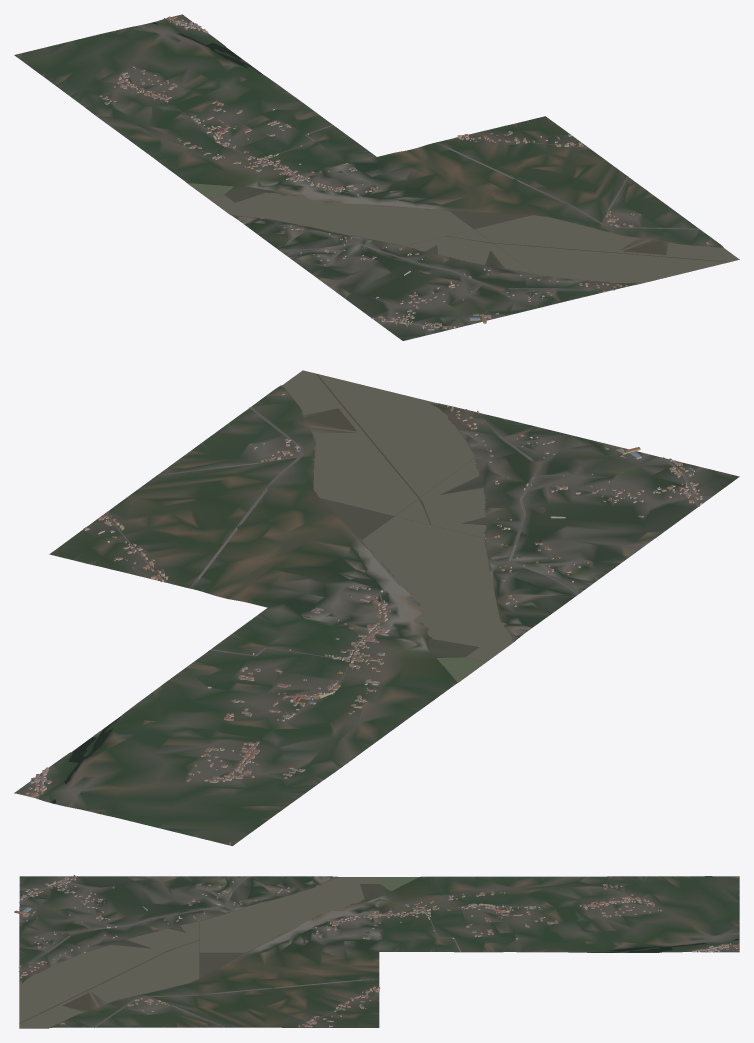
The picture shows the model from 3 angles, top to bottom: view 1: azimuth 30°, elevation 25°; view 2: azimuth 150°, elevation 25°; view 3: azimuth 270°, elevation 25°; orthographic projection. The views are drawn at different scales.
Visible parts, largest first — view 1: ground, water, buildings, roads; view 2: ground, water, buildings, roads; view 3: ground, water, buildings, roads.
Part boxes in pixels (left/top/right/bottom): ground: left=14, top=14, right=739, bottom=340; water: left=152, top=22, right=739, bottom=312; buildings: left=17, top=16, right=709, bottom=330; roads: left=119, top=18, right=699, bottom=326; ground: left=14, top=373, right=739, bottom=845; water: left=52, top=370, right=623, bottom=803; buildings: left=25, top=392, right=702, bottom=844; roads: left=35, top=407, right=699, bottom=798; ground: left=19, top=876, right=739, bottom=1028; water: left=19, top=877, right=739, bottom=1028; buildings: left=14, top=875, right=739, bottom=1027; roads: left=18, top=876, right=739, bottom=1027.
Bounding box in the file's own units: 2809 × 26.91 × 5653.
